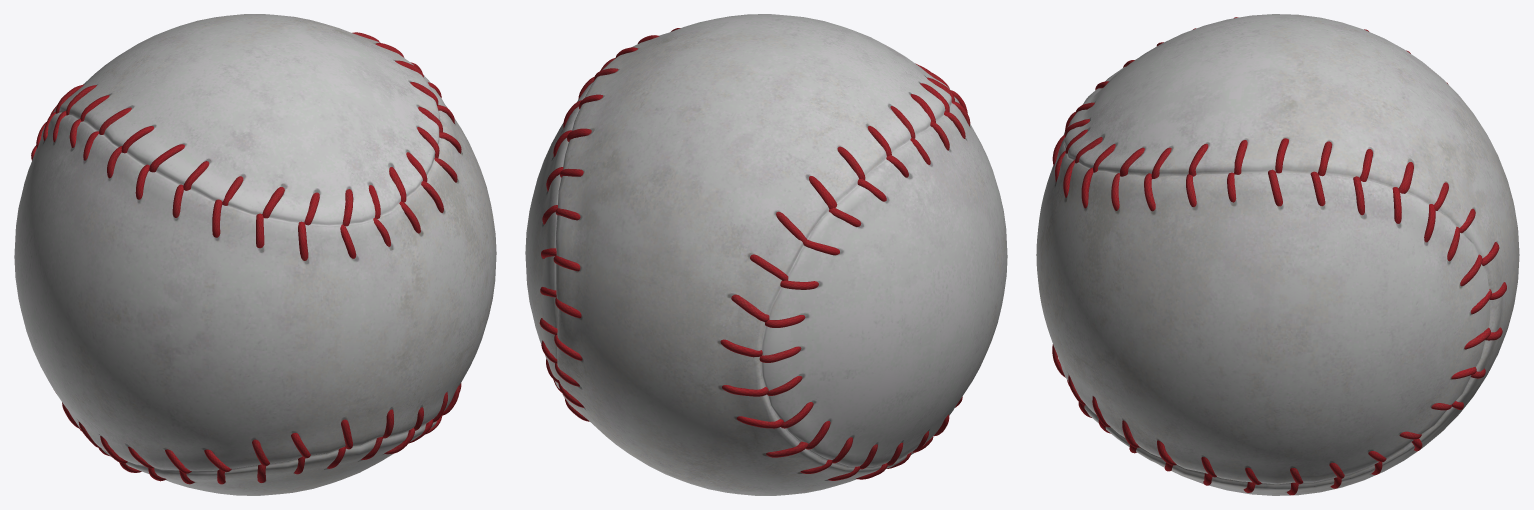
Rendered from baseball.fbx.
3 renders of one model, left to right at view 1: azimuth 30°, elevation 25°; view 2: azimuth 150°, elevation 25°; view 3: azimuth 270°, elevation 25°, orthographic.
Parts seen in each view (by area): view 1: root; view 2: root; view 3: root.
Part boxes in pixels (x1,y1,x2,y2): root: (14,14,496,495); root: (525,14,1007,495); root: (1036,14,1519,495).
Size of the model in its own units: 0.5119 by 0.512 by 0.5156.
Materials: 1 (1 with a texture image).
